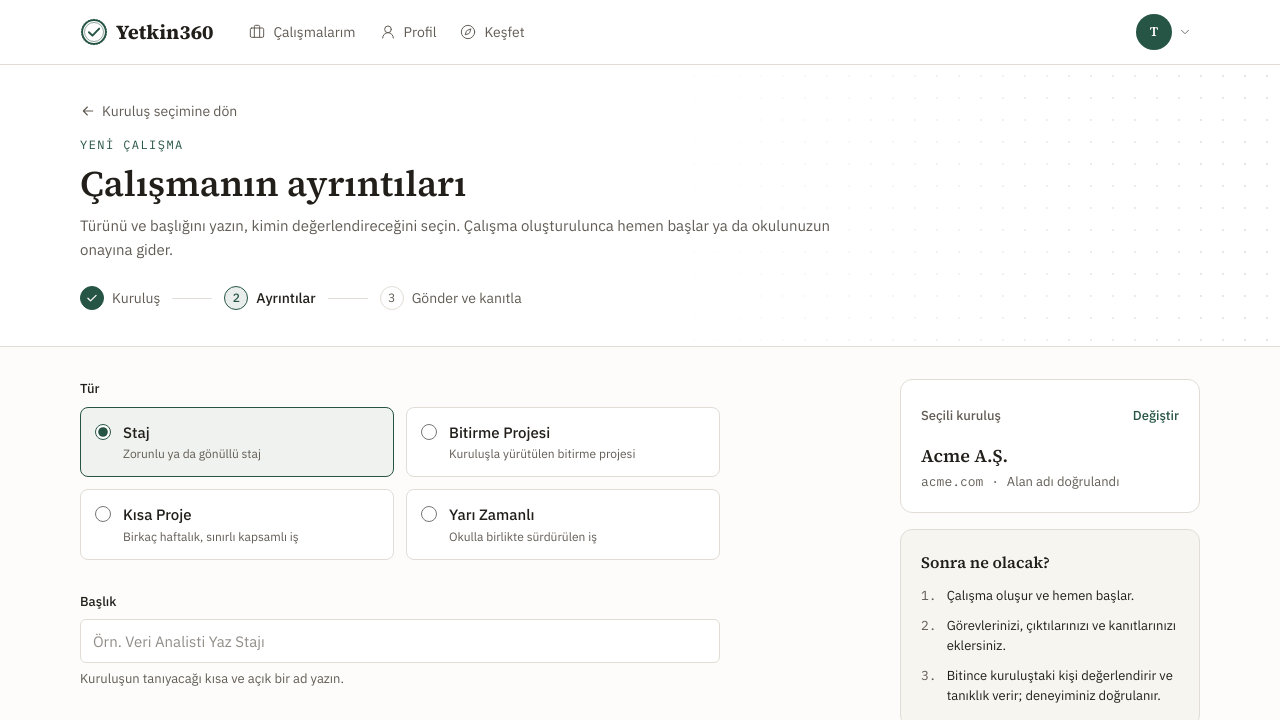
CalismaOlusturPage (/calismalar/olustur) › 404 ORGANIZATION_NOT_FOUND → geçersiz link hatası gösterilir
Type "x" into the field labelled "Başlık" at (400, 641), box [80, 619, 720, 663]
(page scrolled)
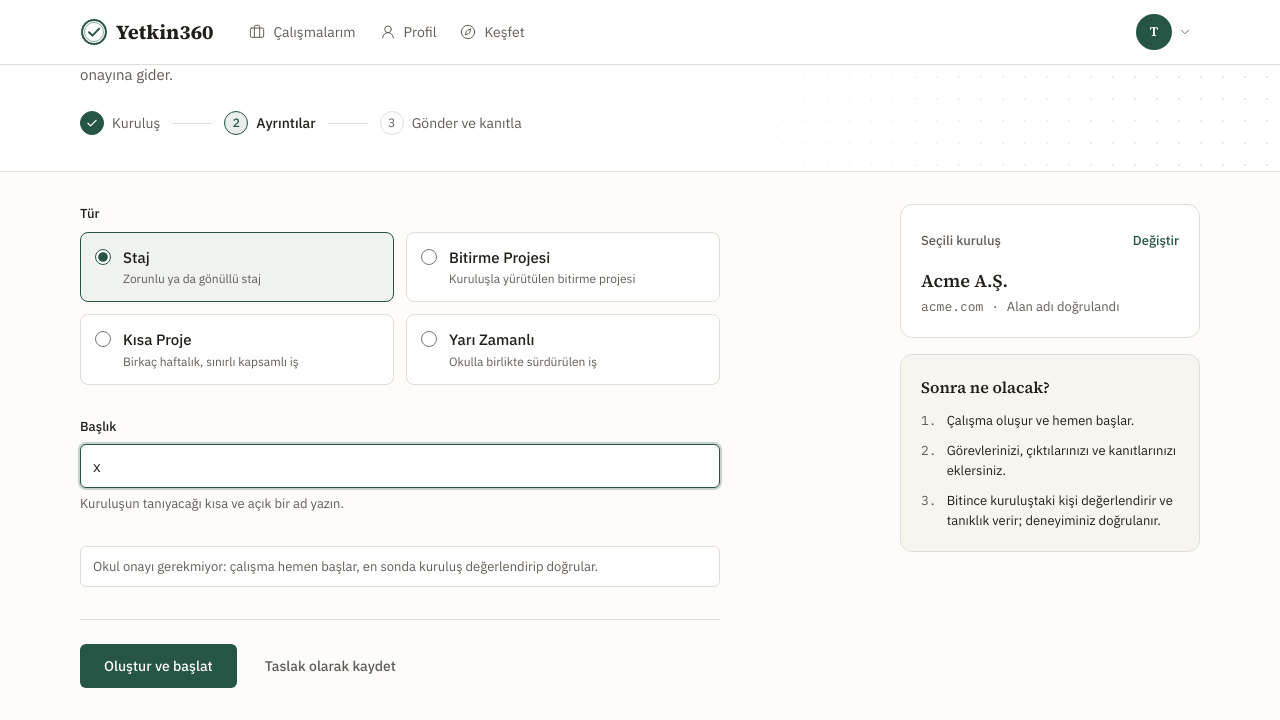
Click the button "Oluştur ve başlat" at (158, 666), box [80, 644, 237, 688]
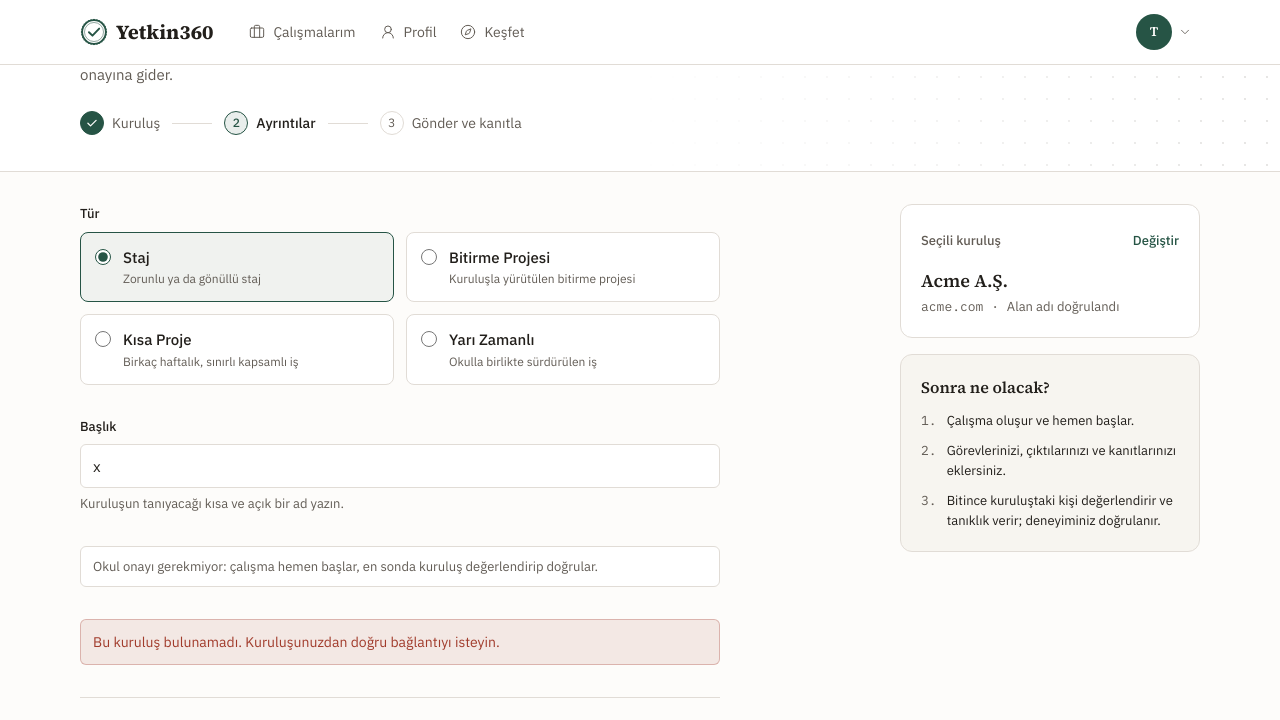
expect the text "Bu kuruluş bulunamadı. Kuruluşunuzdan doğru bağlantıyı isteyin." is shown: met, box [80, 619, 720, 665]
